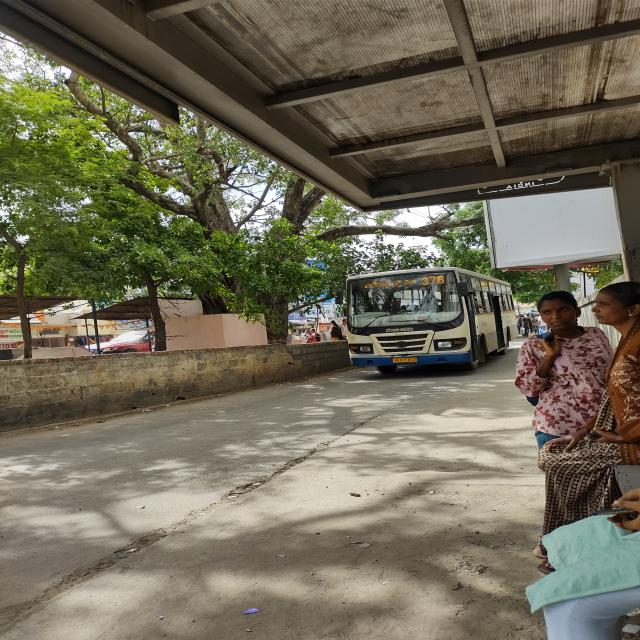bus: (330, 260, 525, 379)
display: (362, 276, 446, 290)
dnumber: (421, 276, 445, 285)
